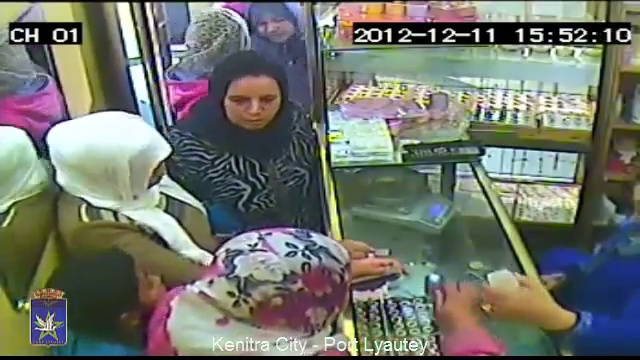face: (218, 83, 282, 130), (252, 6, 302, 51)
